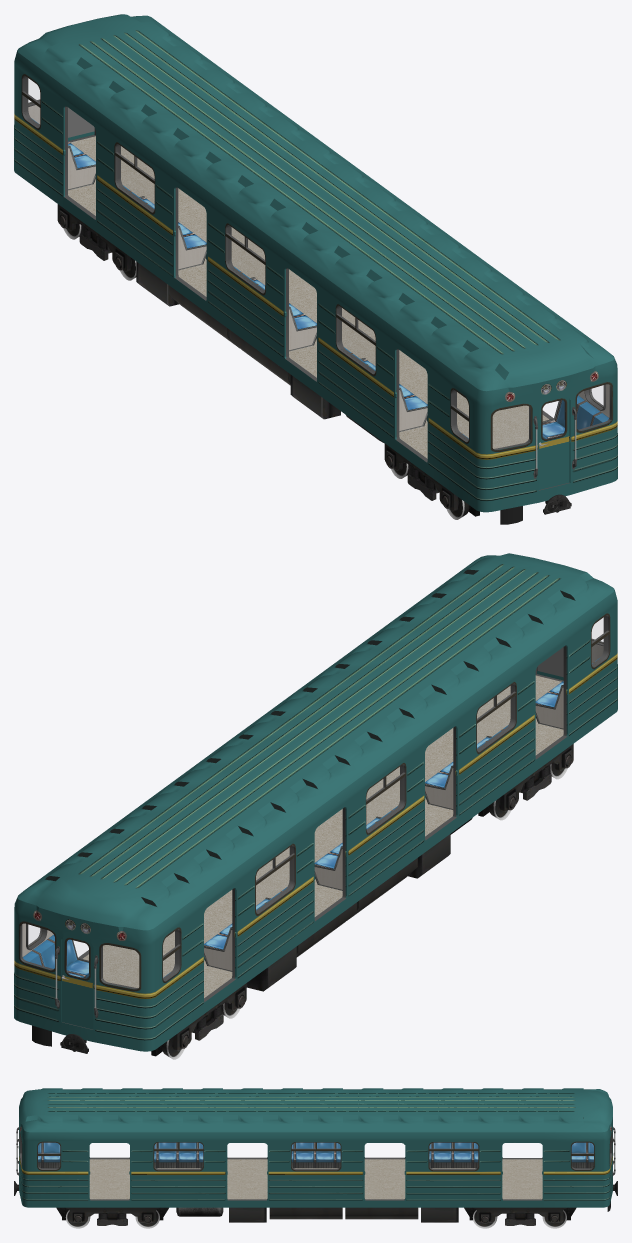
Rendered from SubwayTrain05_Body2.FBX.
3 renders of one model, top to bottom at view 1: azimuth 30°, elevation 25°; view 2: azimuth 150°, elevation 25°; view 3: azimuth 270°, elevation 25°, orthographic. The views are drawn at different scales.
Visible parts, largest first — view 1: SubwayTrain05_Roof, SubwayTrain05_Body1, SubwayTrain05_Inter, SubwayTrain05_Wheels, SubwayTrain_Bench02c1, SubwayTrain_Bench02c, SubwayTrain05_DoorF1; view 2: SubwayTrain05_Roof, SubwayTrain05_Body1, SubwayTrain05_Inter, SubwayTrain05_Wheels, SubwayTrain_Bench02c1, SubwayTrain_Bench02c, SubwayTrain05_DoorF2; view 3: SubwayTrain05_Body1, SubwayTrain05_Roof, SubwayTrain05_Inter, SubwayTrain05_Wheels, SubwayTrain_Bench02c, SubwayTrain05_Inter2.
Boxes of the visible parts, bbox=[...] form: SubwayTrain05_Roof: bbox=[17, 14, 614, 391]; SubwayTrain05_Body1: bbox=[14, 50, 617, 512]; SubwayTrain05_Inter: bbox=[22, 76, 611, 490]; SubwayTrain05_Wheels: bbox=[57, 204, 571, 524]; SubwayTrain_Bench02c1: bbox=[68, 145, 559, 431]; SubwayTrain_Bench02c: bbox=[31, 118, 608, 438]; SubwayTrain05_DoorF1: bbox=[538, 396, 569, 489]; SubwayTrain05_Roof: bbox=[17, 553, 614, 930]; SubwayTrain05_Body1: bbox=[14, 590, 617, 1051]; SubwayTrain05_Inter: bbox=[20, 615, 609, 1029]; SubwayTrain05_Wheels: bbox=[32, 744, 573, 1059]; SubwayTrain_Bench02c1: bbox=[72, 685, 563, 971]; SubwayTrain_Bench02c: bbox=[23, 658, 599, 978]; SubwayTrain05_DoorF2: bbox=[61, 935, 93, 1029]; SubwayTrain05_Body1: bbox=[19, 1117, 612, 1207]; SubwayTrain05_Roof: bbox=[19, 1088, 612, 1132]; SubwayTrain05_Inter: bbox=[19, 1133, 612, 1200]; SubwayTrain05_Wheels: bbox=[14, 1181, 617, 1228]; SubwayTrain_Bench02c: bbox=[38, 1142, 593, 1168]; SubwayTrain05_Inter2: bbox=[16, 1127, 615, 1176].
Bounding box in the file's own units: 4082 × 4898 × 24396.
